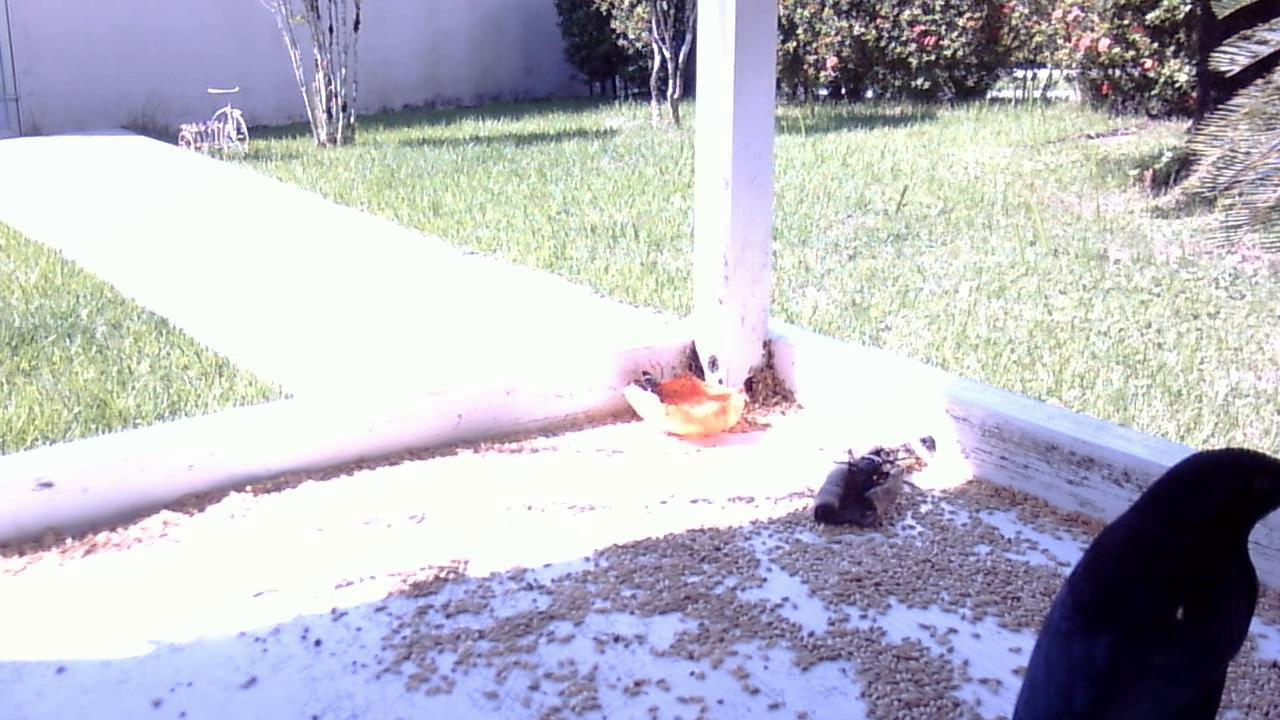chupim: (1001, 445, 1280, 720)
